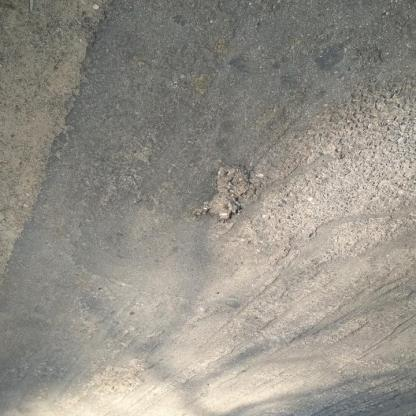pothole: (191, 165, 255, 226), (89, 357, 157, 397)
